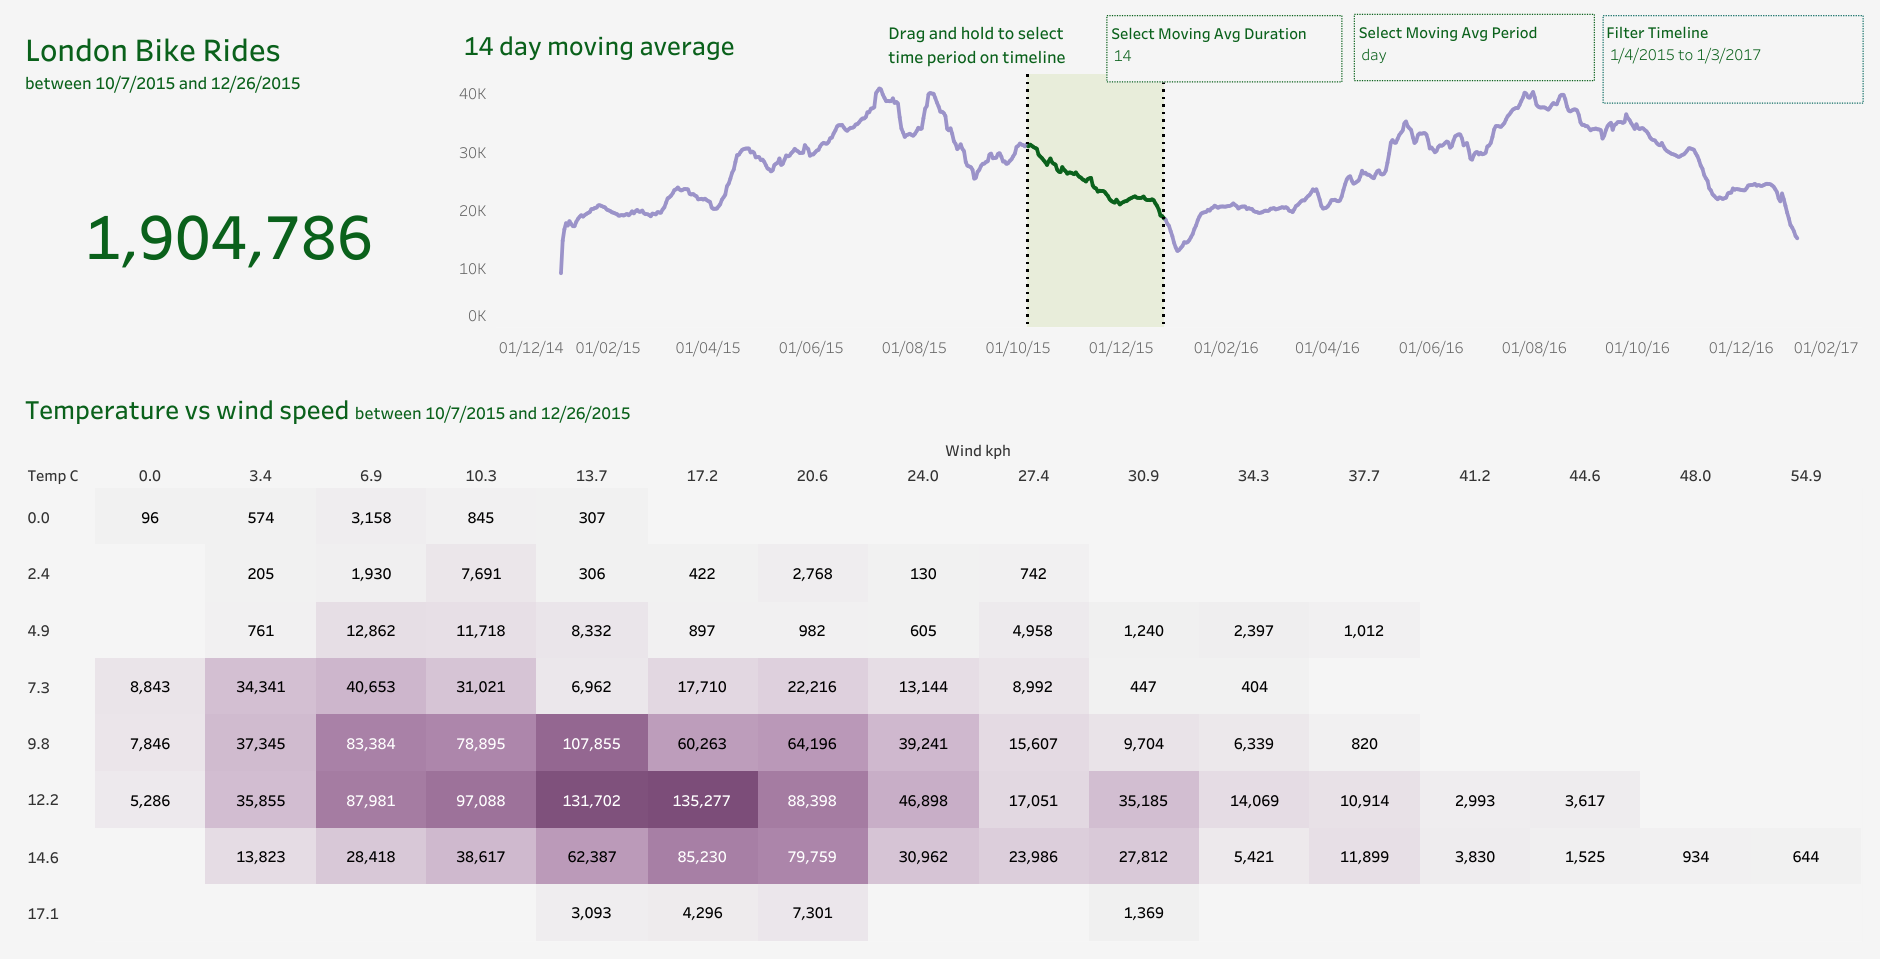

This screenshot's page, from the dashboard's own definition file:
{"tool":"tableau","page":{"name":"Dashboard","canvas":[1366,768],"ordinal":0},"visuals":[{"type":"parameter","param":"[Parameters].[Parameter 3]","box":[979,7,183,62]},{"type":"worksheet","title":"TotalRides","mark":"Automatic","box":[8,8,317.9,309]},{"type":"worksheet","title":"MovingAverage","mark":"Automatic","rows":["Calculation1"],"cols":["Calculation_2560859404833579008"],"box":[325.9,8,1032.1,309]},{"type":"parameter","param":"[Parameters].[Parameter 2]","box":[800,8,178,62]},{"type":"filter","title":"MovingAverage","param":"[federated.1btkpv91oruoe61fz4cnm1lloes8].[none:Calculation_2560859404833579008:q","box":[1162,10,193,75]},{"type":"text","box":[639,12,159,46]},{"type":"worksheet","title":"Heatmap","mark":"Square","rows":["temp real C (bin)"],"cols":["Wind Speed Kph (bin)"],"box":[8,317,1350,443]}]}

Visuals, with their boxes on the page's 1366x768 design canvas (x1, y1, x2, y2). These are canvas units, not pixel positions in the 1880x959 screenshot, which may show the page scaled, cropped or inside an application window:
parameter: pyautogui.locateOnScreen(979, 7, 1162, 69)
"TotalRides" worksheet: pyautogui.locateOnScreen(8, 8, 326, 317)
"MovingAverage" worksheet: pyautogui.locateOnScreen(326, 8, 1358, 317)
parameter: pyautogui.locateOnScreen(800, 8, 978, 70)
"MovingAverage" filter: pyautogui.locateOnScreen(1162, 10, 1355, 85)
text: pyautogui.locateOnScreen(639, 12, 798, 58)
"Heatmap" worksheet (Square marks): pyautogui.locateOnScreen(8, 317, 1358, 760)
